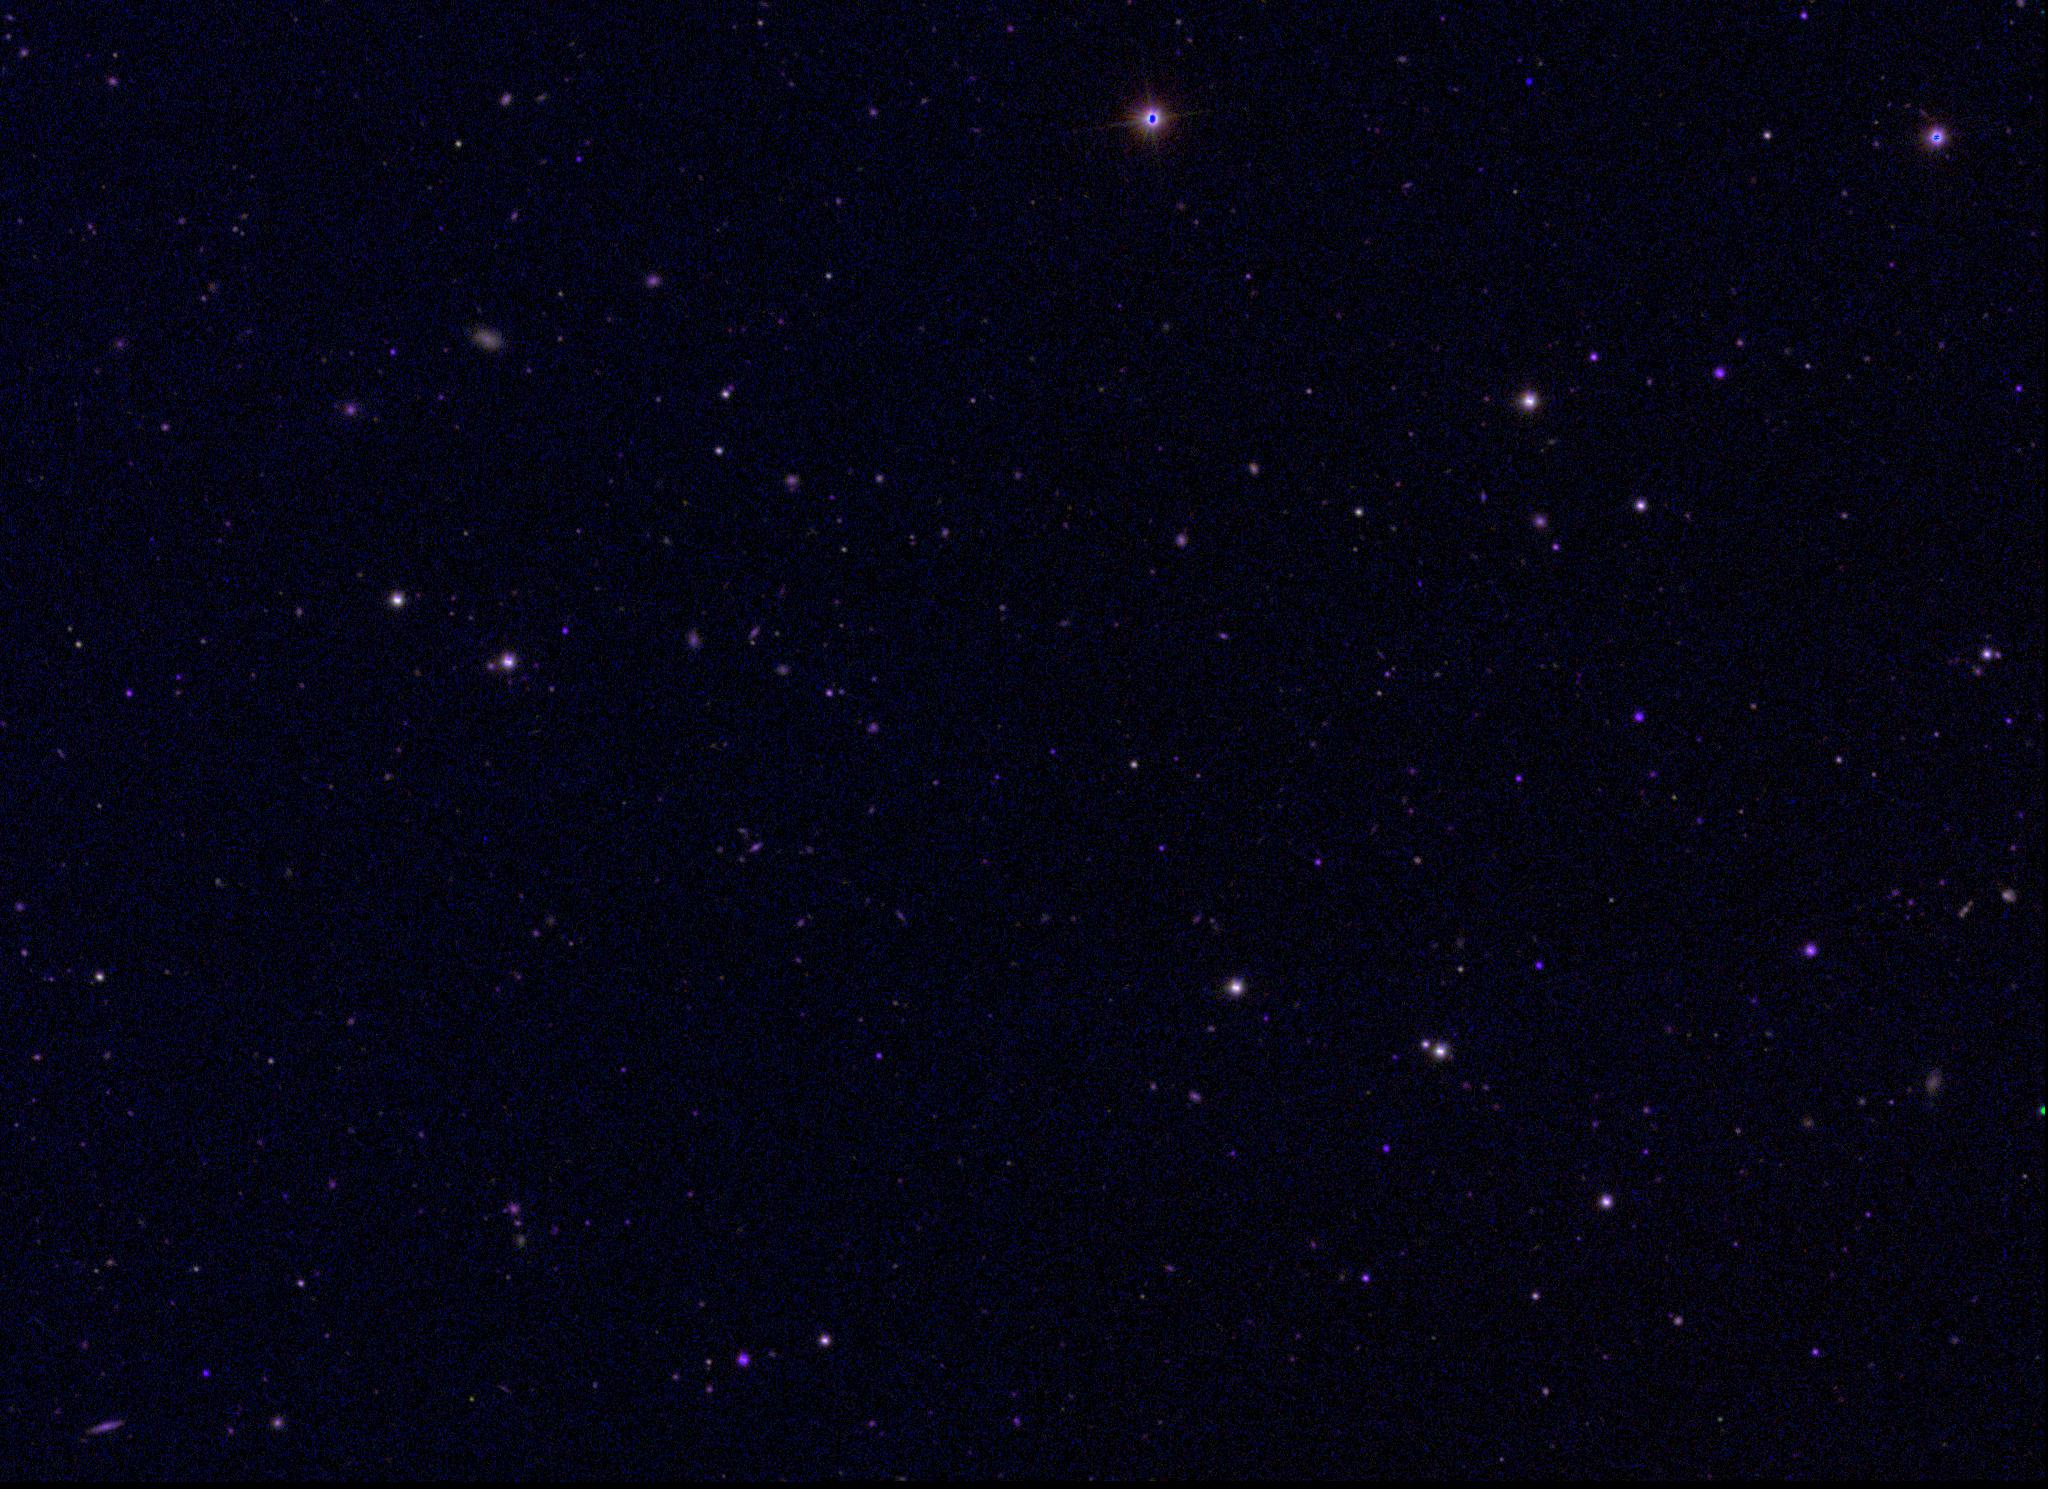L: (1522, 73, 1534, 87)
